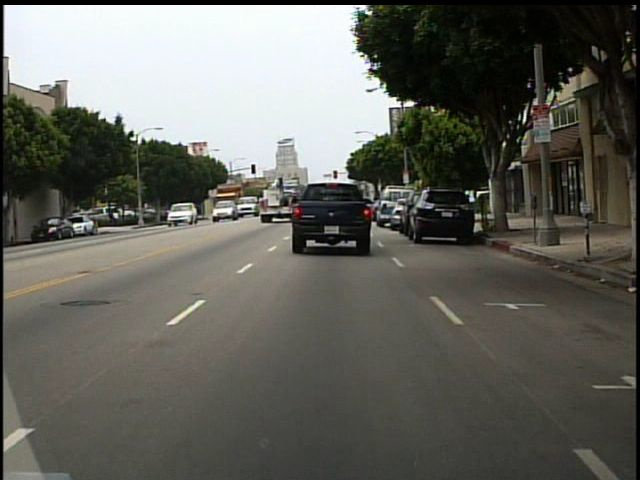person: (465, 184, 480, 223)
